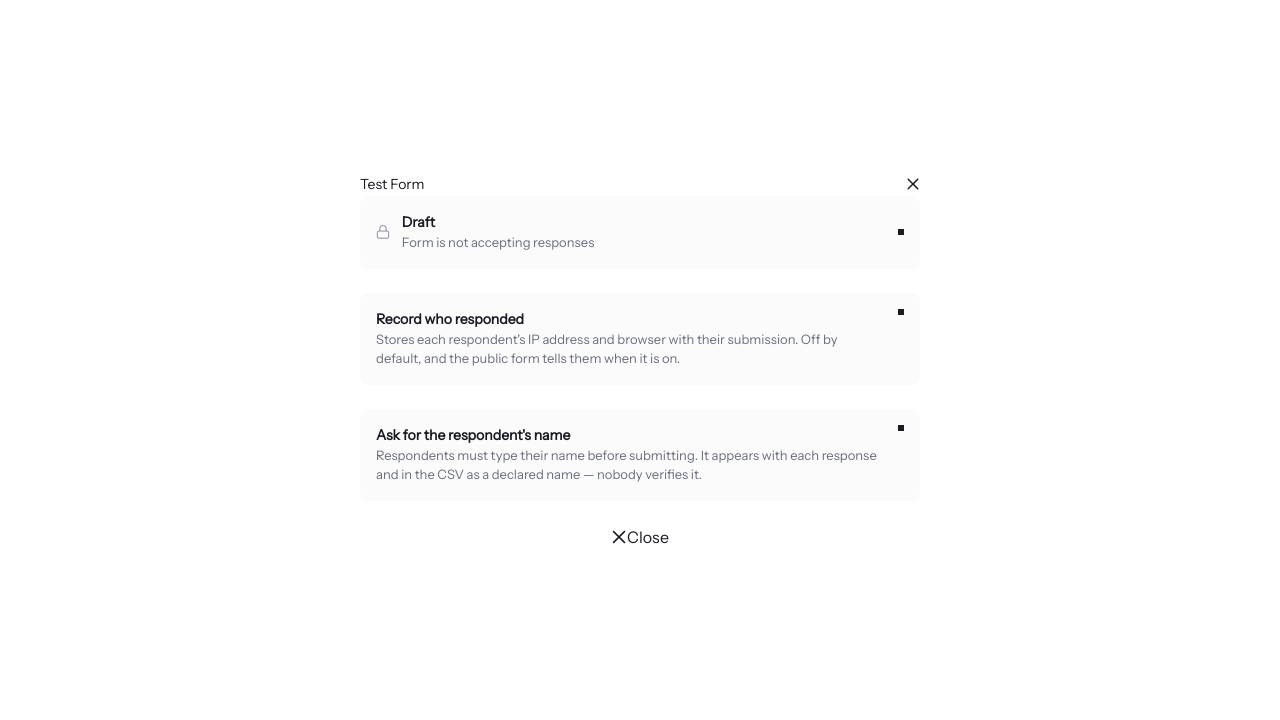
Test case: ShareFormModal — recording respondents › puts the switch back and says so when the write fails
Click the switch in the row of "Record who responded".
click(901, 311)  # box [898,308,904,314]
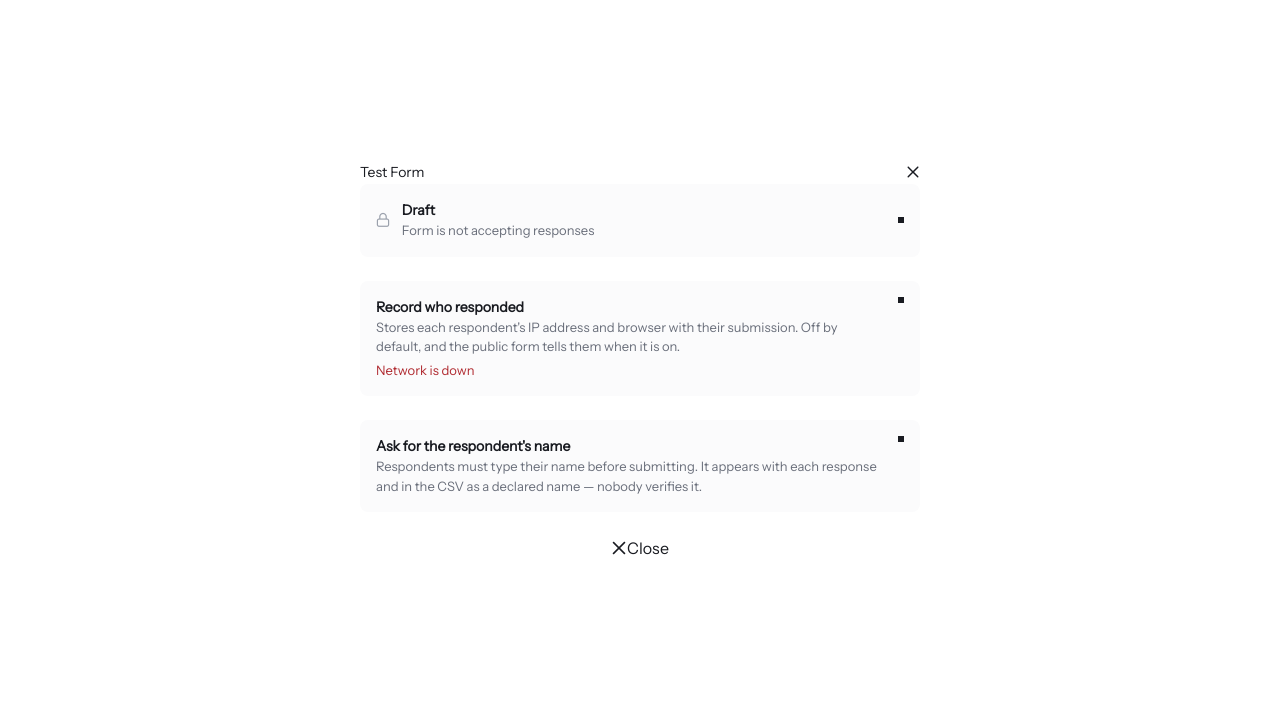
Expected: the switch in the row of "Record who responded" is not checked, [898,296,904,302]
Expected: the message with test id "metadata-error" reads "Network is down", [376,362,475,378]
